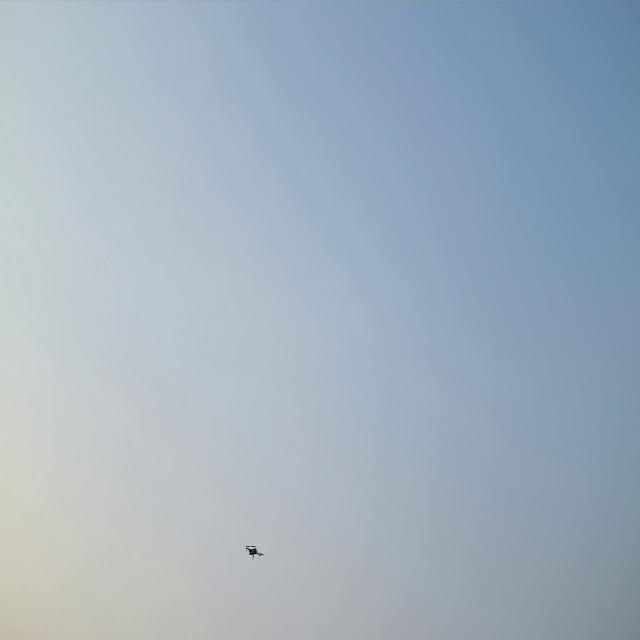UAV: (242, 542, 265, 561)
